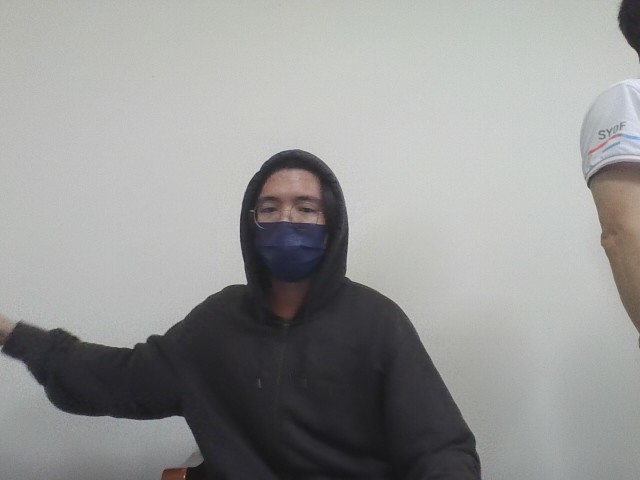No_Helmet: (237, 146, 349, 288)
person: (0, 134, 525, 480)
